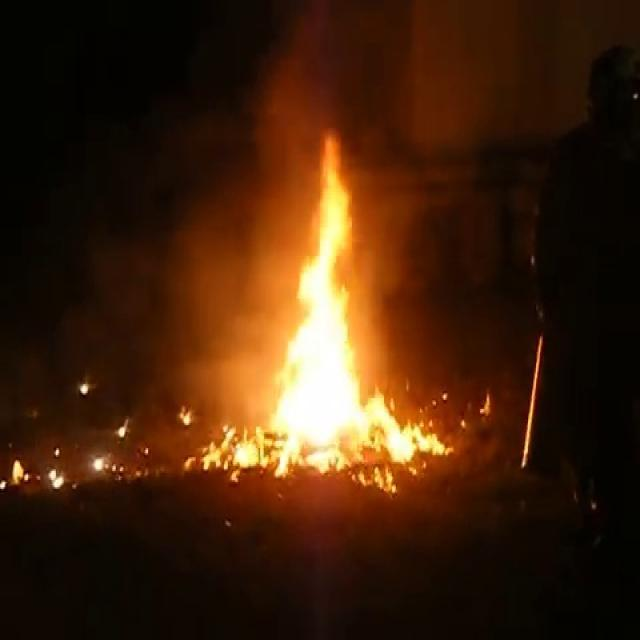Fire: (226, 124, 438, 486)
Smoke: (75, 49, 306, 397)
